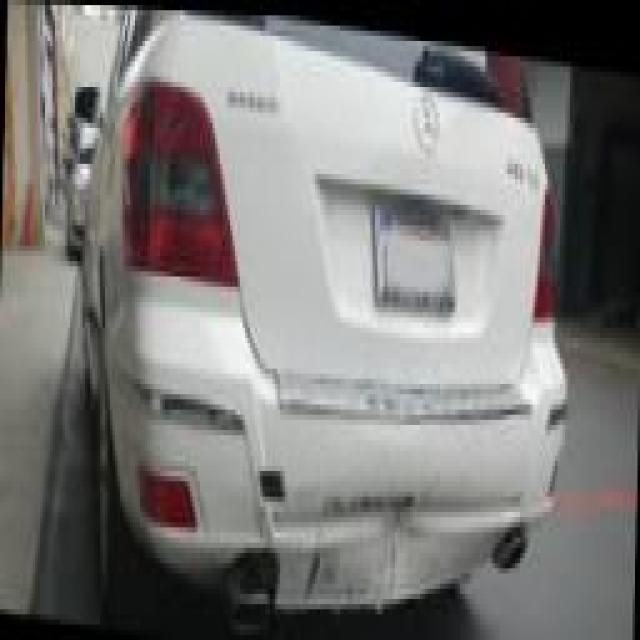rapairable: (297, 464, 443, 612)
